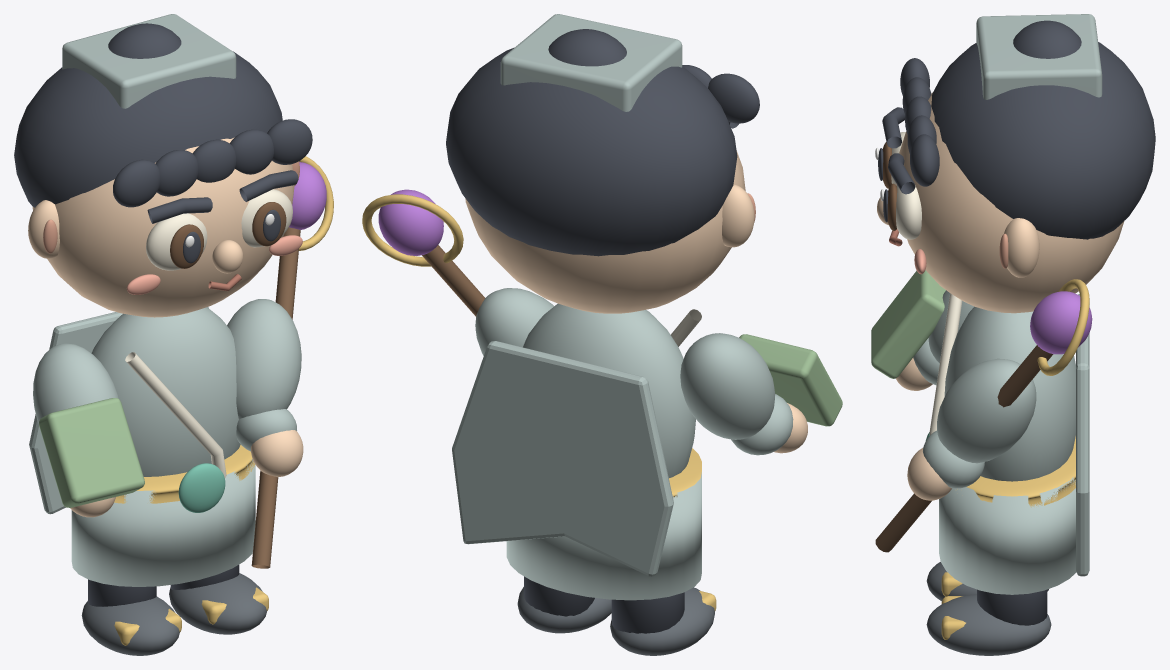
The model's file is yuji.fbx.
3 renders of one model, left to right at view 1: azimuth 30°, elevation 25°; view 2: azimuth 150°, elevation 25°; view 3: azimuth 270°, elevation 25°, orthographic. The views are drawn at different scales.
Visible parts, largest first — view 1: hair_mass, face, body, robe_skirt, medicine_book, scholar_crown, sleeve, sleeve.001, boot, boot.001, spell_staff, cape (+28 smaller); view 2: hair_mass, cape, face, body, robe_skirt, scholar_crown, sleeve.001, medicine_book, sleeve, boot, spell_gem, leg (+10 smaller); view 3: hair_mass, face, robe_skirt, body, scholar_crown, sleeve, medicine_book, boot.001, cape, spell_gem, spell_staff, belt (+20 smaller).
Boxes of the visible parts, x1,y1,x2,y2 form: hair_mass: [14, 51, 282, 207]; face: [32, 137, 294, 317]; body: [91, 307, 240, 476]; robe_skirt: [71, 459, 255, 586]; medicine_book: [39, 398, 144, 507]; scholar_crown: [62, 14, 236, 108]; sleeve: [227, 299, 301, 419]; sleeve.001: [33, 343, 118, 423]; boot: [81, 596, 179, 655]; boot.001: [169, 573, 266, 634]; spell_staff: [251, 227, 300, 568]; cape: [29, 307, 208, 514]; hair_mass: [446, 48, 737, 256]; cape: [452, 341, 673, 576]; face: [465, 151, 745, 313]; body: [523, 303, 695, 477]; robe_skirt: [506, 472, 701, 600]; scholar_crown: [500, 14, 682, 111]; sleeve.001: [680, 333, 775, 439]; medicine_book: [739, 334, 842, 426]; sleeve: [475, 288, 553, 355]; boot: [610, 587, 714, 655]; spell_gem: [378, 189, 443, 255]; leg: [611, 592, 684, 633]; hair_mass: [931, 42, 1155, 239]; face: [896, 92, 1124, 313]; robe_skirt: [939, 477, 1076, 594]; body: [944, 306, 1075, 481]; scholar_crown: [976, 14, 1102, 99]; sleeve: [937, 358, 1036, 463]; medicine_book: [871, 270, 945, 378]; boot.001: [926, 594, 1051, 655]; cape: [1076, 294, 1089, 576]; spell_gem: [1030, 291, 1092, 354]; spell_staff: [875, 345, 1053, 552]; belt: [957, 436, 1075, 507].
Bounding box in the file's own units: 1.55 × 2.44 × 1.05.
